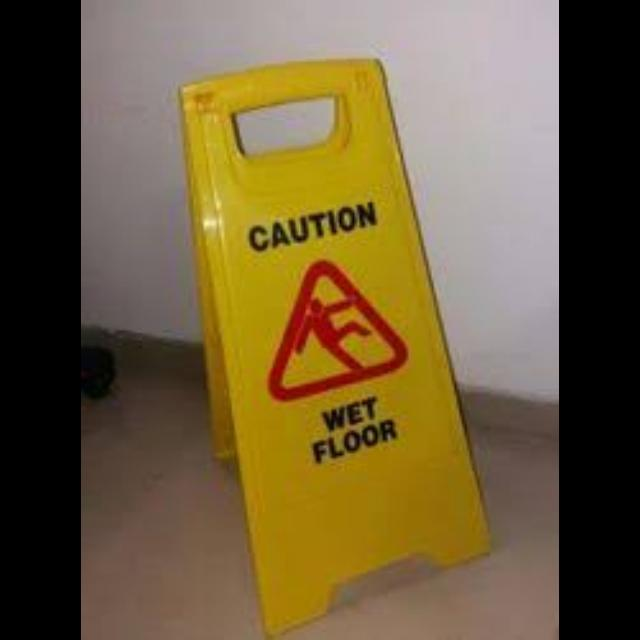tron truot: (181, 61, 488, 630)
